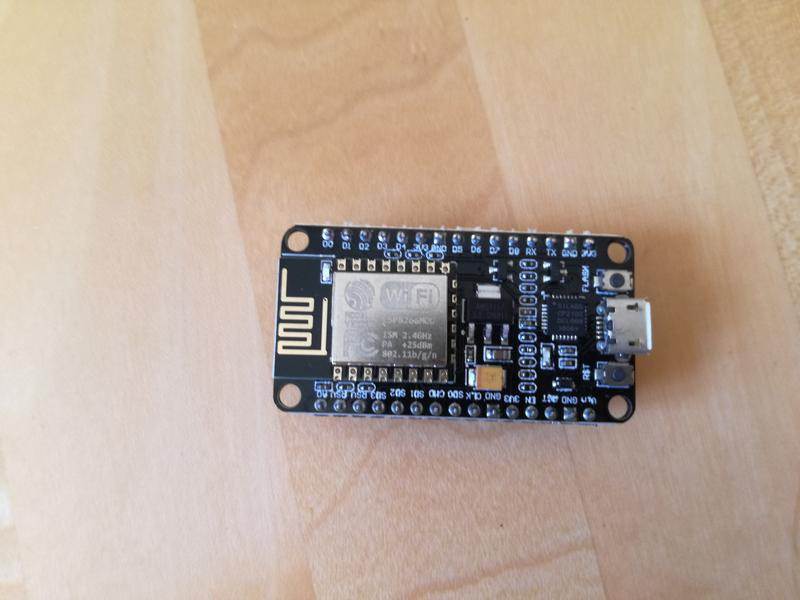ESP8266: (266, 215, 658, 443)
